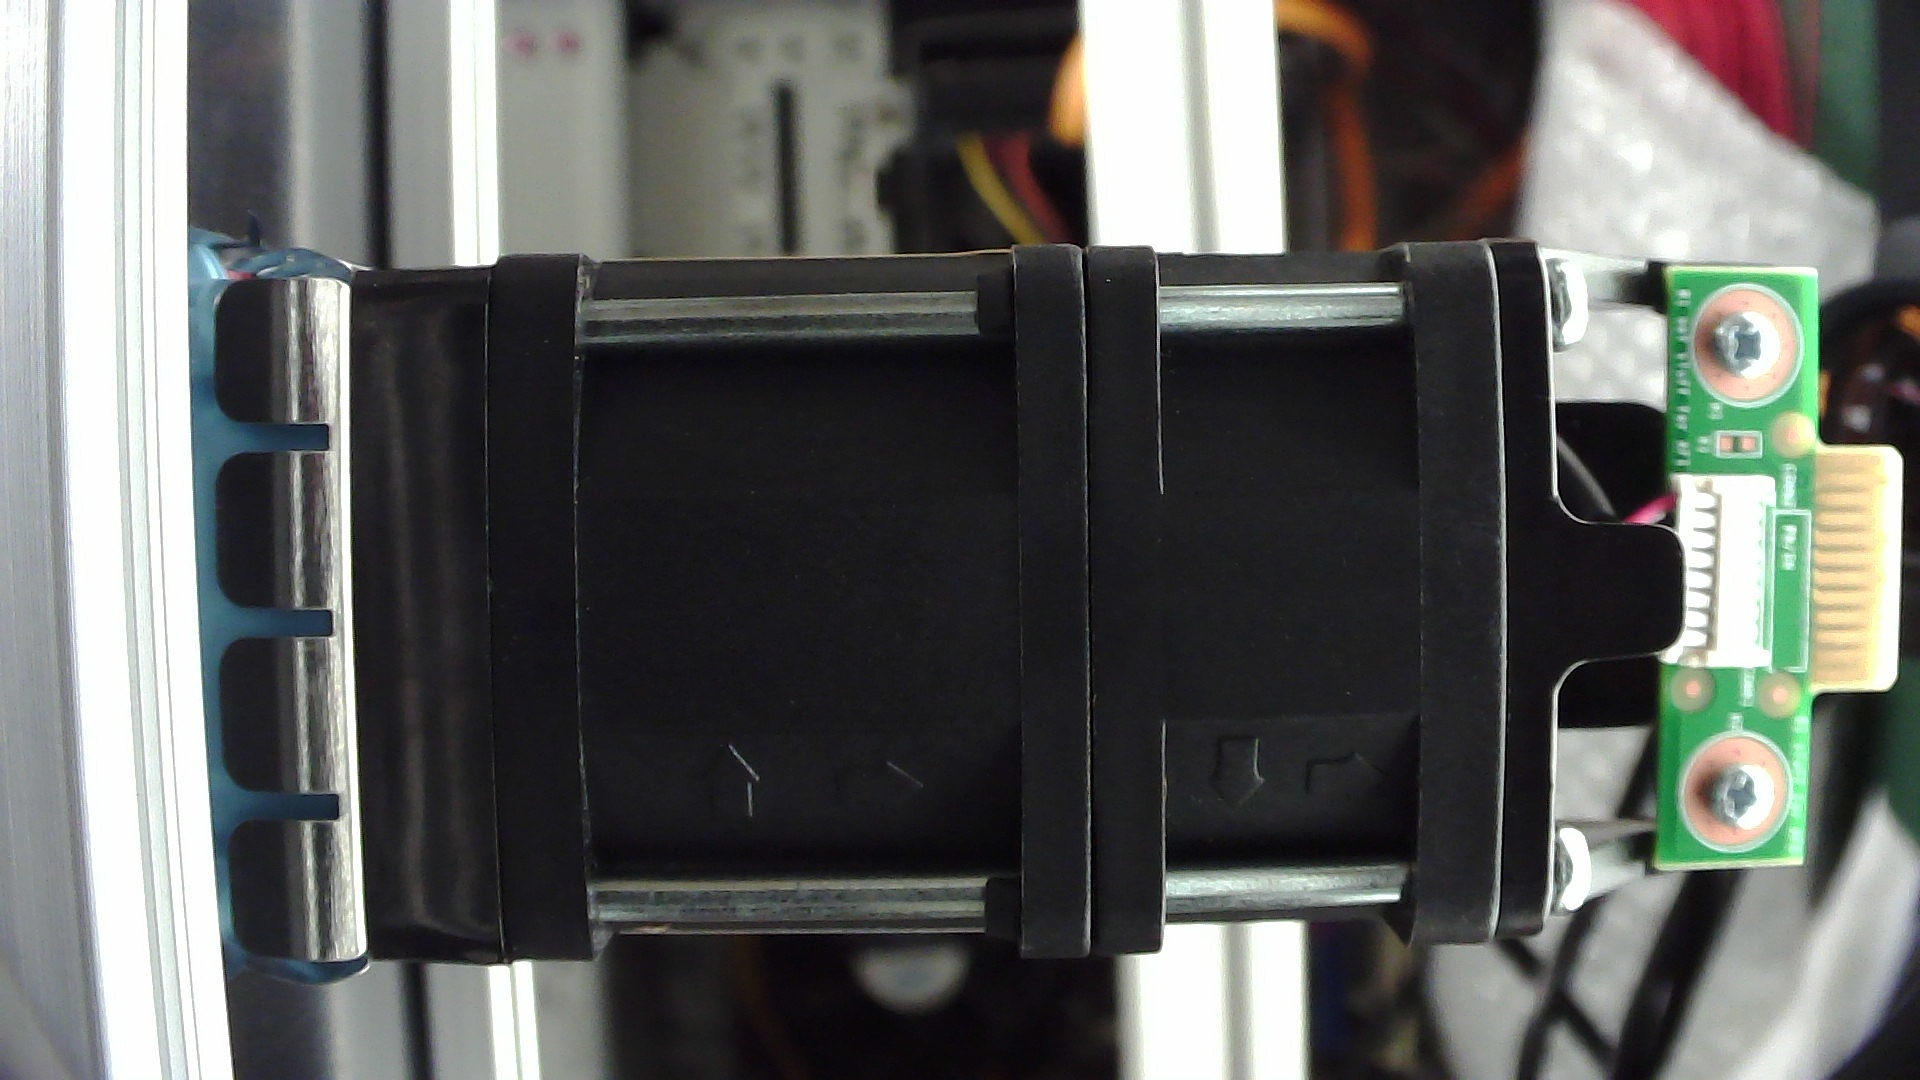6_4: (495, 423, 1513, 837)
